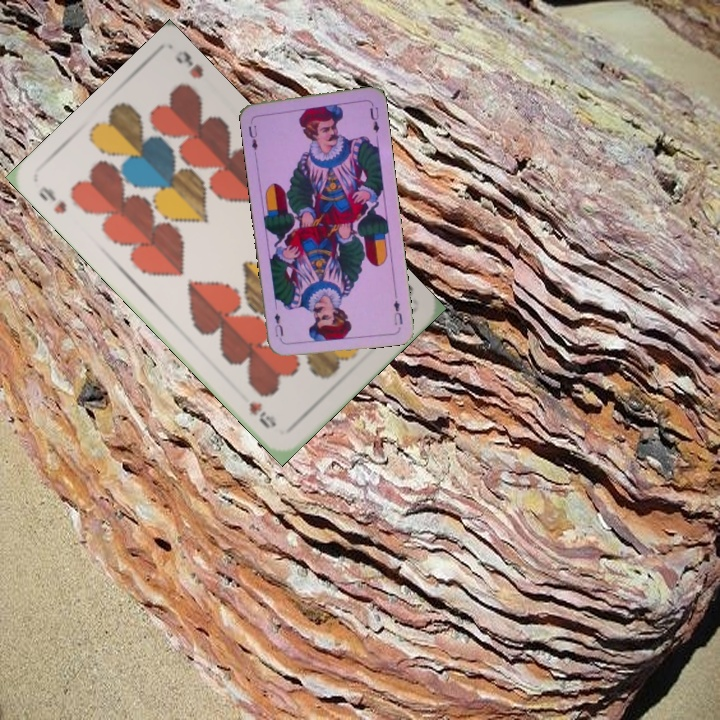EU: (244, 116, 260, 156), (389, 296, 405, 328)
H9: (34, 182, 70, 217)
